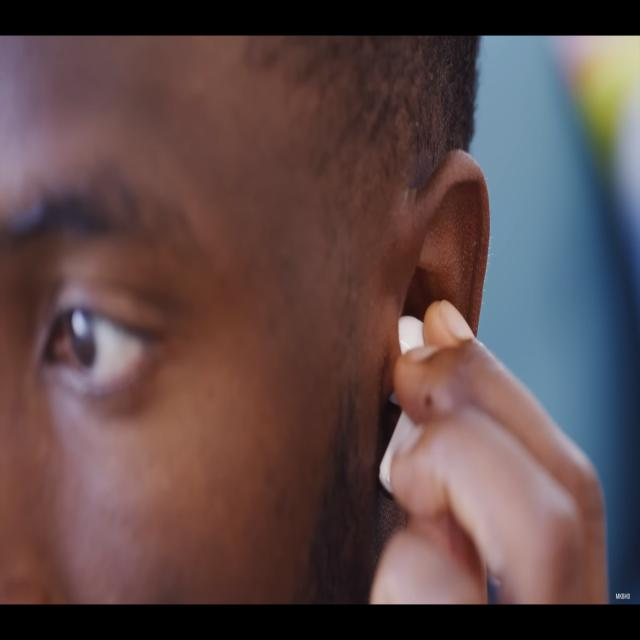airpods: (376, 308, 431, 497)
